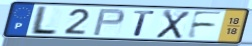2: (64, 8, 93, 35)
F: (185, 10, 226, 40)
L: (27, 5, 60, 36)
P: (91, 8, 127, 37)
T: (132, 9, 156, 37)
X: (154, 9, 192, 40)
